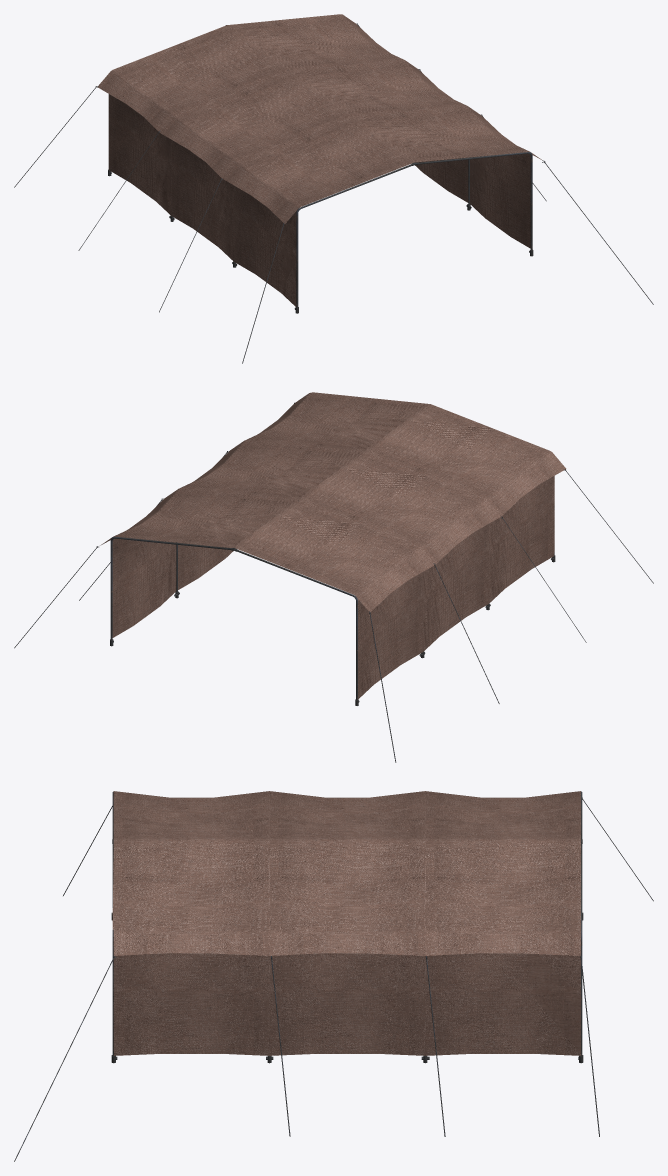
Rendered from M_Tent.fbx.
3 views of the same model, one above another, from view 1: azimuth 30°, elevation 25°; view 2: azimuth 150°, elevation 25°; view 3: azimuth 270°, elevation 25° (orthographic). The views are drawn at different scales.
Parts seen in each view (by area): view 1: Group1; view 2: Group1; view 3: Group1.
Part boxes in pixels (box(x1,y1,x2,y2)): Group1: box(14, 14, 653, 363); Group1: box(14, 392, 653, 762); Group1: box(14, 791, 653, 1161).
Size of the model in its own units: 9965 by 3798 by 10947.
